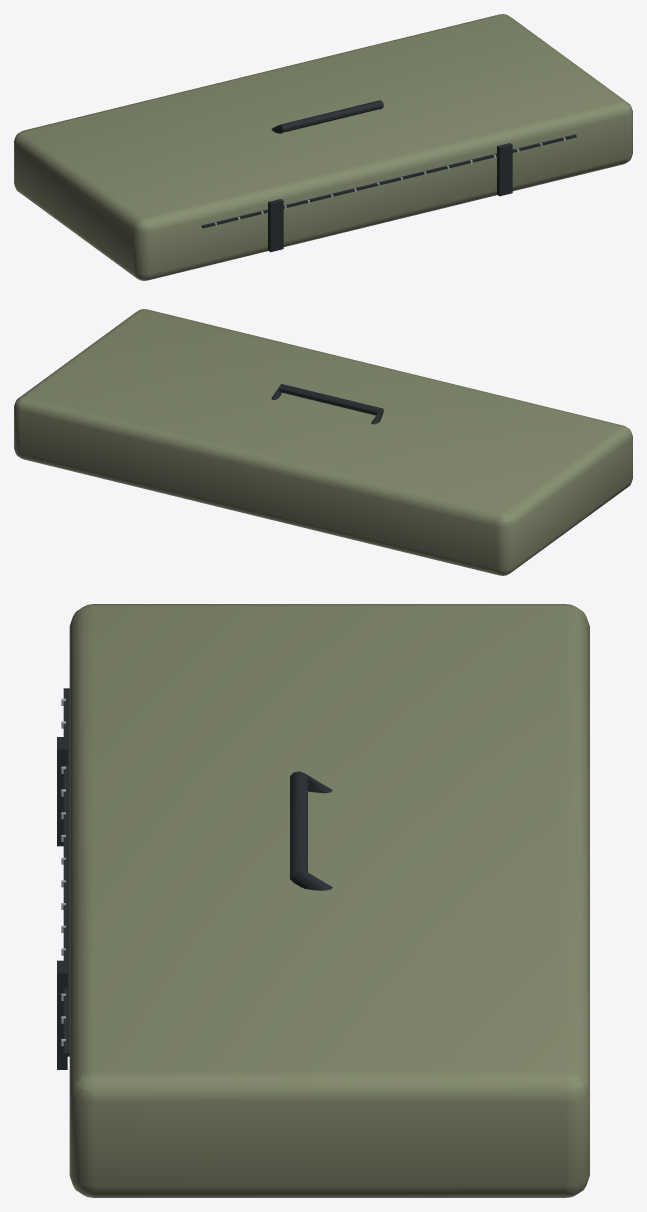
The model's file is ob_flat_bag_g5.glb.
3 views of the same model, one above another, from view 1: azimuth 30°, elevation 25°; view 2: azimuth 150°, elevation 25°; view 3: azimuth 270°, elevation 25° (orthographic). The views are drawn at different scales.
Parts seen in each view (by area): view 1: ob_flat_bag_g5; view 2: ob_flat_bag_g5; view 3: ob_flat_bag_g5.
Boxes of the visible parts, box(x1,y1,x2,y2) form: ob_flat_bag_g5: box(14, 14, 632, 280); ob_flat_bag_g5: box(14, 309, 632, 575); ob_flat_bag_g5: box(57, 604, 589, 1197).
Size of the model in its own units: 0.95 by 0.13 by 0.44.
